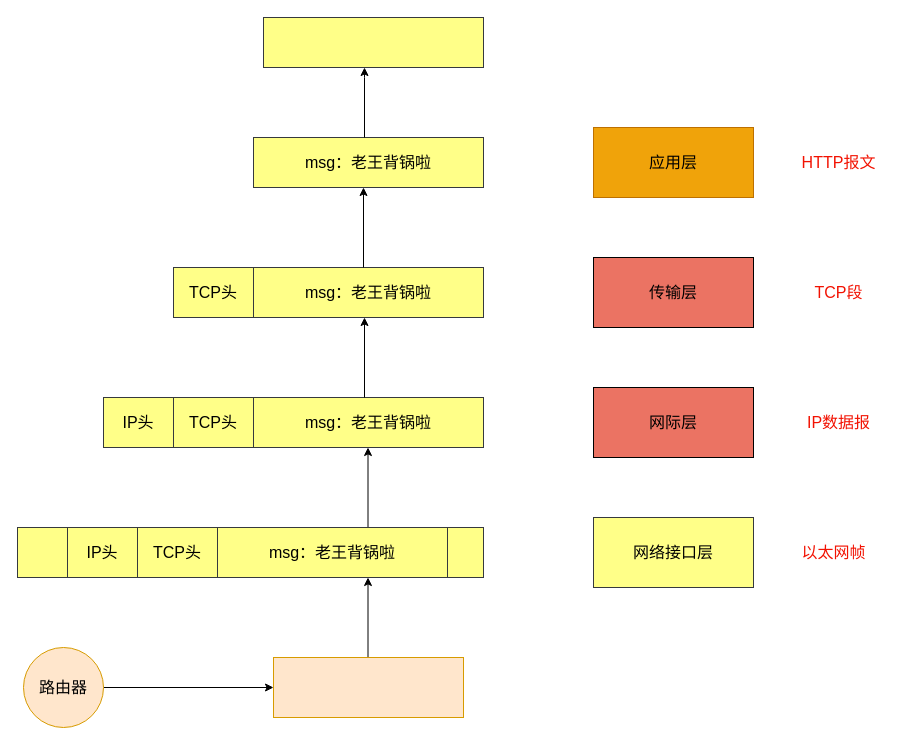
This 906x745 diagram has some shape labels left out. Each missing label, with the centre of its shape:
帧头: (42,552)
帧尾: (465,552)
接收方应用程序: (373,42)
物理介质传输 比特流 0101010: (368,687)
